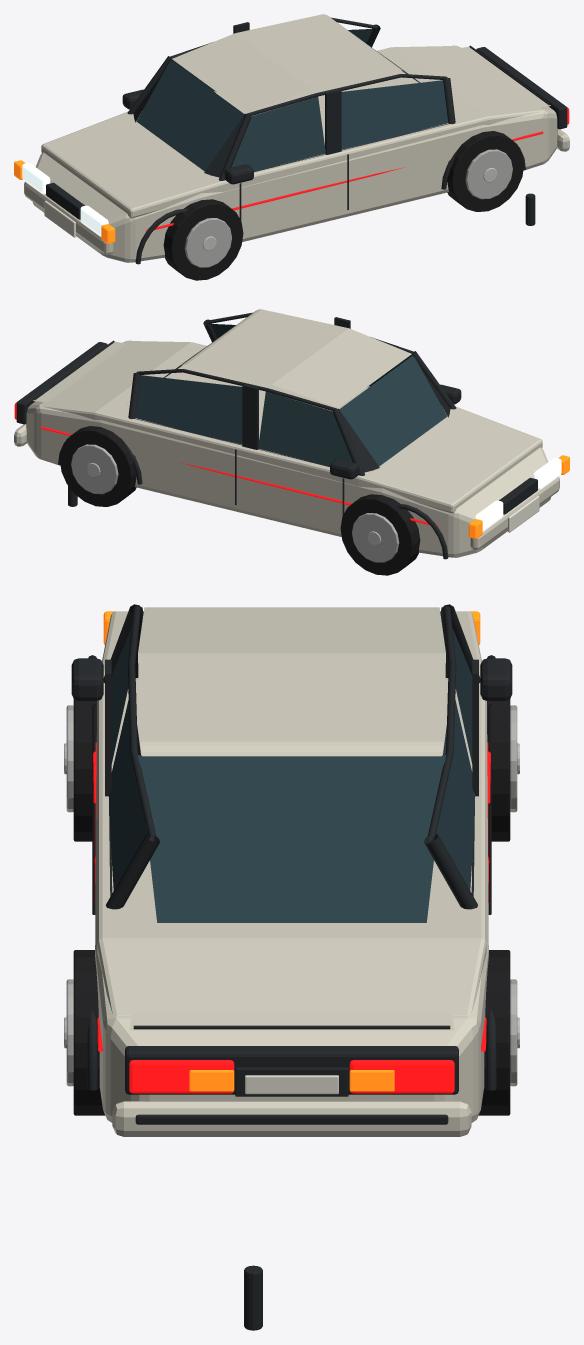
File: commodore.glb
The picture shows the model from 3 angles, top to bottom: view 1: azimuth 30°, elevation 25°; view 2: azimuth 150°, elevation 25°; view 3: azimuth 270°, elevation 25°; orthographic projection. The views are drawn at different scales.
Visible parts, largest first — view 1: commodore_belt, commodore_body, commodore_cabin, commodore_windscreen, commodore_rear_side_glass_-1, commodore_front_side_glass_-1, commodore_front_tyre_-1, commodore_rear_tyre_-1, commodore, commodore_rear_hub_-1, commodore_front_hub_-1, commodore_tail_panel (+15 smaller); view 2: commodore, commodore_belt, commodore_body, commodore_cabin, commodore_windscreen, commodore_tail_panel, commodore_front_bumper, commodore_boot_lid, commodore_front_grille, commodore_front_plate, commodore_headlamp_left, commodore_headlamp_right (+1 smaller); view 3: commodore_rear_screen, commodore_cabin, commodore_belt, commodore, commodore_body, commodore_rear_bumper, commodore_tail_panel, commodore_boot_lid, commodore_rear_side_glass_-1, commodore_rear_tyre_-1, commodore_rear_bumper_insert, commodore_front_tyre_-1 (+13 smaller).
Boxes of the visible parts, x1,y1,x2,y2 form: commodore_belt: (41, 46, 541, 218); commodore_body: (33, 45, 557, 262); commodore_cabin: (172, 14, 402, 112); commodore_windscreen: (136, 60, 244, 171); commodore_rear_side_glass_-1: (341, 80, 448, 149); commodore_front_side_glass_-1: (231, 96, 325, 171); commodore_front_tyre_-1: (163, 199, 243, 280); commodore_rear_tyre_-1: (447, 131, 523, 211); commodore: (122, 17, 380, 122); commodore_rear_hub_-1: (465, 149, 512, 199); commodore_front_hub_-1: (184, 218, 231, 267); commodore_tail_panel: (476, 47, 567, 129); commodore: (40, 369, 448, 575); commodore_belt: (42, 341, 542, 513); commodore_body: (26, 340, 550, 557); commodore_cabin: (181, 309, 411, 407); commodore_windscreen: (339, 355, 447, 466); commodore_tail_panel: (16, 342, 107, 424); commodore_front_bumper: (470, 476, 559, 549); commodore_boot_lid: (33, 341, 127, 402); commodore_front_grille: (499, 478, 537, 514); commodore_front_plate: (508, 495, 539, 532); commodore_headlamp_left: (533, 458, 561, 489); commodore_headlamp_right: (475, 500, 503, 531); commodore_rear_screen: (138, 755, 445, 922); commodore_cabin: (138, 607, 445, 756); commodore_belt: (97, 611, 486, 1015); commodore: (424, 604, 519, 1115); commodore_body: (95, 701, 488, 1122); commodore_rear_bumper: (112, 1101, 471, 1136); commodore_tail_panel: (125, 1046, 458, 1094); commodore_boot_lid: (129, 1013, 454, 1030); commodore_rear_side_glass_-1: (108, 700, 150, 890); commodore_rear_tyre_-1: (73, 950, 105, 1115); commodore_rear_bumper_insert: (135, 1114, 448, 1124); commodore_front_tyre_-1: (73, 699, 96, 841).
Size of the model in its own units: 5.11 by 2.23 by 2.13.
